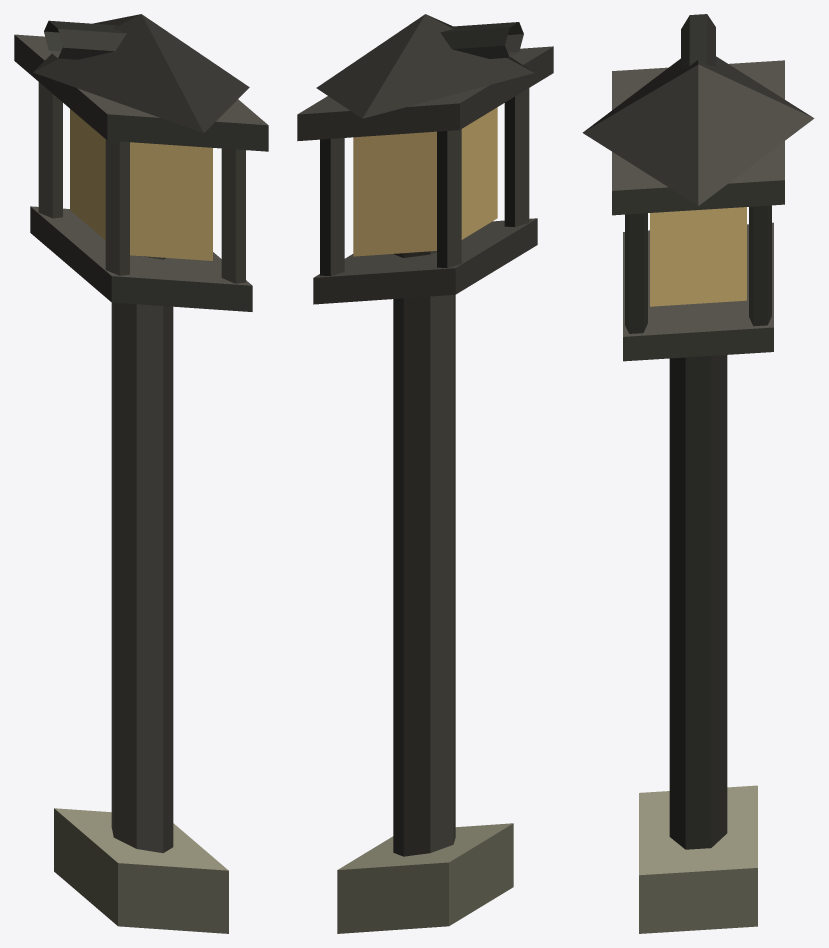
3 renders of one model, left to right at view 1: azimuth 30°, elevation 25°; view 2: azimuth 150°, elevation 25°; view 3: azimuth 270°, elevation 25°, orthographic. The views are drawn at different scales.
Visible parts, largest first — view 1: 739cbf6afa2876bf91d9515befc7c3ebc6350c4a91cc5d93f83e8503a31d; view 2: 739cbf6afa2876bf91d9515befc7c3ebc6350c4a91cc5d93f83e8503a31d; view 3: 739cbf6afa2876bf91d9515befc7c3ebc6350c4a91cc5d93f83e8503a31d.
Part boxes in pixels (<box>): 739cbf6afa2876bf91d9515befc7c3ebc6350c4a91cc5d93f83e8503a31d: <box>14,14,268,933</box>; 739cbf6afa2876bf91d9515befc7c3ebc6350c4a91cc5d93f83e8503a31d: <box>297,14,553,933</box>; 739cbf6afa2876bf91d9515befc7c3ebc6350c4a91cc5d93f83e8503a31d: <box>582,14,814,933</box>.
Size of the model in its own units: 0.86 by 3.49 by 0.86.
Materials: 2 (1 with a texture image).
